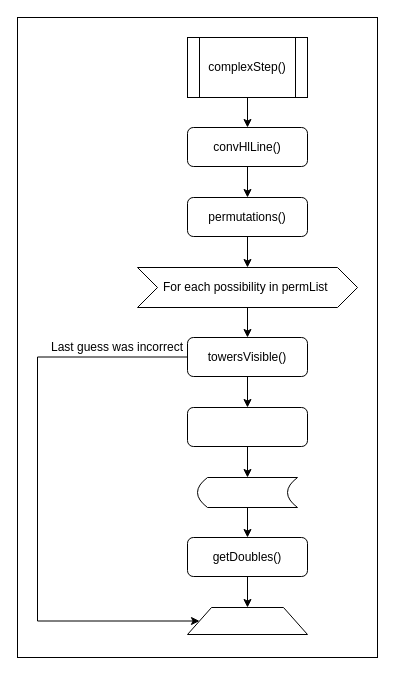
Image size: 395x675. Some labels were removed from this diagram. Each missing label, with the box of its shape:
end of loop: (196, 476, 298, 508)
explainShowStep(): (186, 406, 308, 446)
return: (186, 606, 308, 634)
